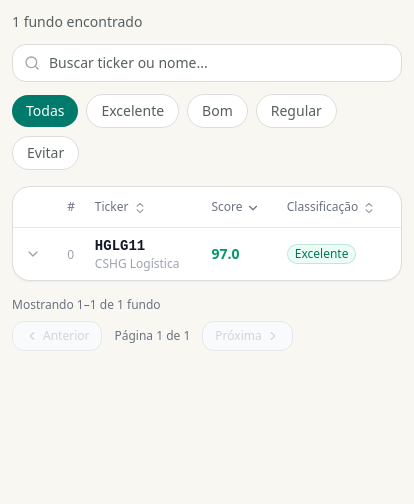
it: RankingPage — detalhe expansível no mobile › esconde métricas extras (DY 12m) até a linha ser expandida
Expected: the text "DY 12m" is not shown
Expande a linha.
Click the button named "detalhes de HGLG11": (33, 254) [21,242,45,266]
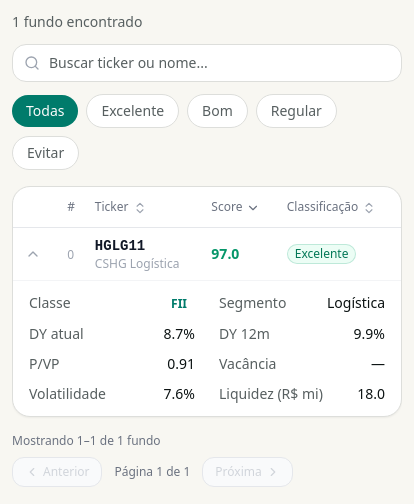
Now the text "DY 12m" is shown, box [219,324,270,344]
Recolhe novamente.
Click the button named "detalhes de HGLG11": (33, 254) [21,242,45,266]
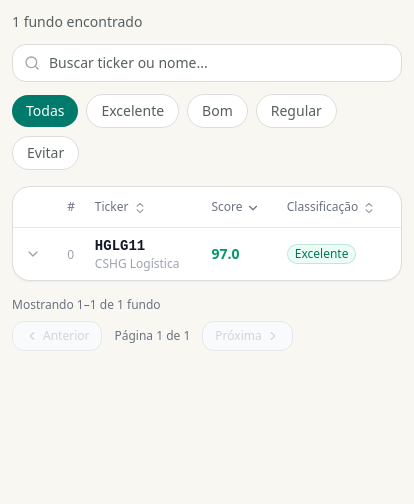
Now the text "DY 12m" is gone
